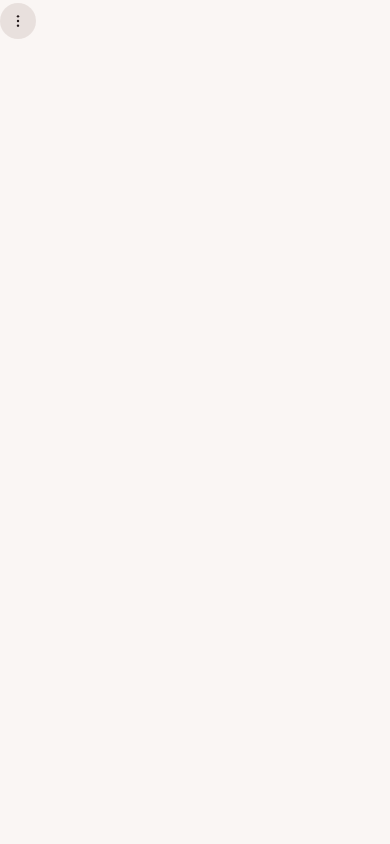
<TrackMenu /> › Escape closes the menu and returns focus to the trigger
Click the button named "More options" at (18, 21), box [0, 3, 36, 39]
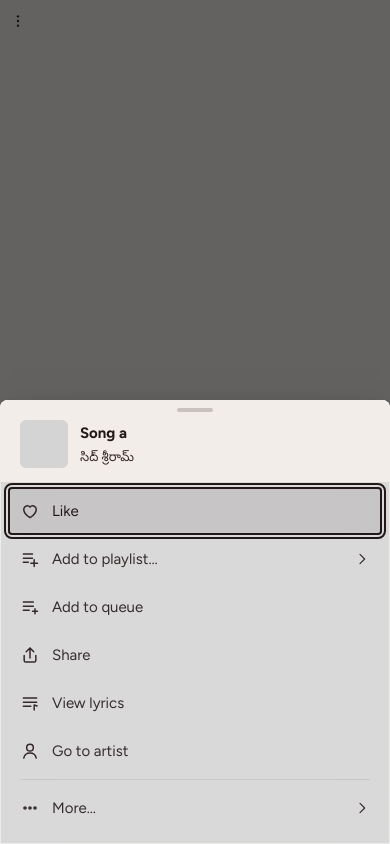
Press Escape in the menu item "Like", box [8, 487, 382, 535]
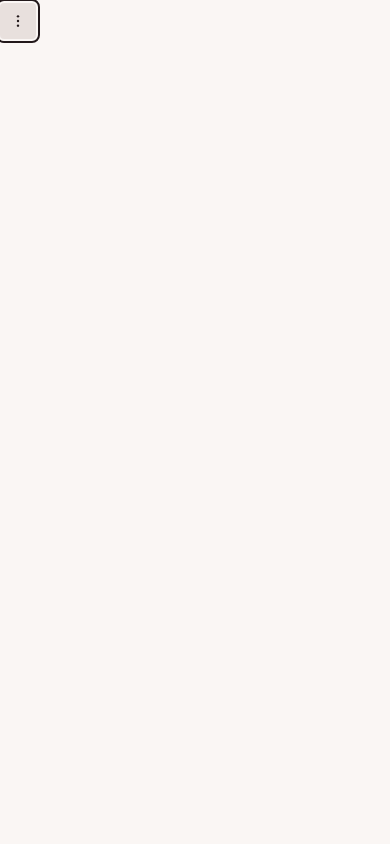
Check: the menu is gone
Check: the button named "More options" is collapsed, box [0, 3, 36, 39]
